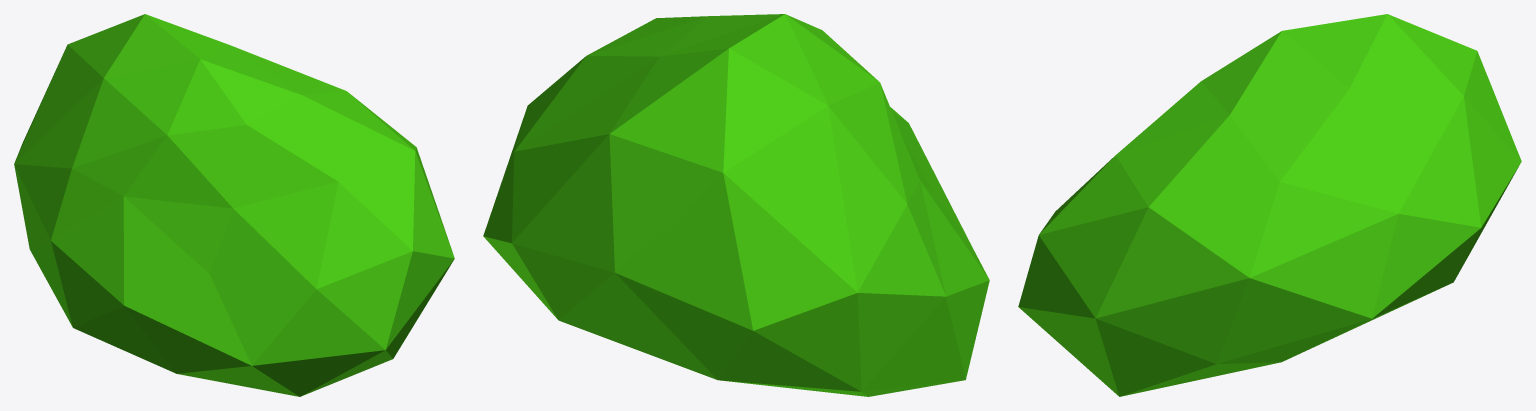
Rendered from lp_tree5_Cube_015.obj.
3 renders of one model, left to right at view 1: azimuth 30°, elevation 25°; view 2: azimuth 150°, elevation 25°; view 3: azimuth 270°, elevation 25°, orthographic. The views are drawn at different scales.
Visible parts, largest first — view 1: lp_tree5_Cube_015; view 2: lp_tree5_Cube_015; view 3: lp_tree5_Cube_015.
Boxes of the visible parts, x1=… form: lp_tree5_Cube_015: x1=14, y1=14, x2=454, y2=396; lp_tree5_Cube_015: x1=483, y1=14, x2=989, y2=396; lp_tree5_Cube_015: x1=1018, y1=14, x2=1521, y2=396.
Size of the model in its own units: 5.53 by 4.55 by 6.55.
